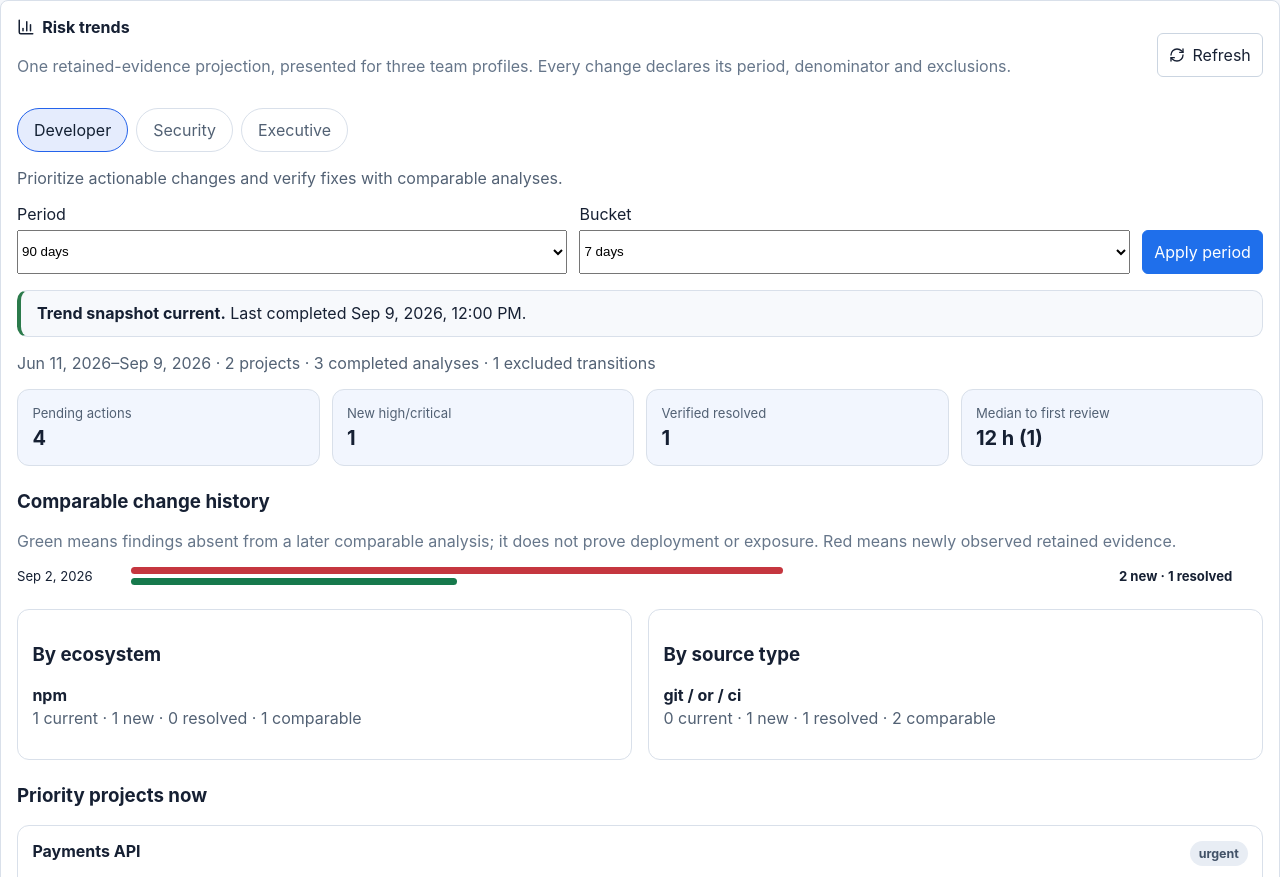
Test: ProjectRiskTrendsPanel › uses closed body-only period controls and preserves an actionable error state
Expected: the text "Payments API" is shown, 32,841 -> 141,866
Select "30 days" in the dropdown labelled "Period" at (292,252), box 17,230 -> 568,274
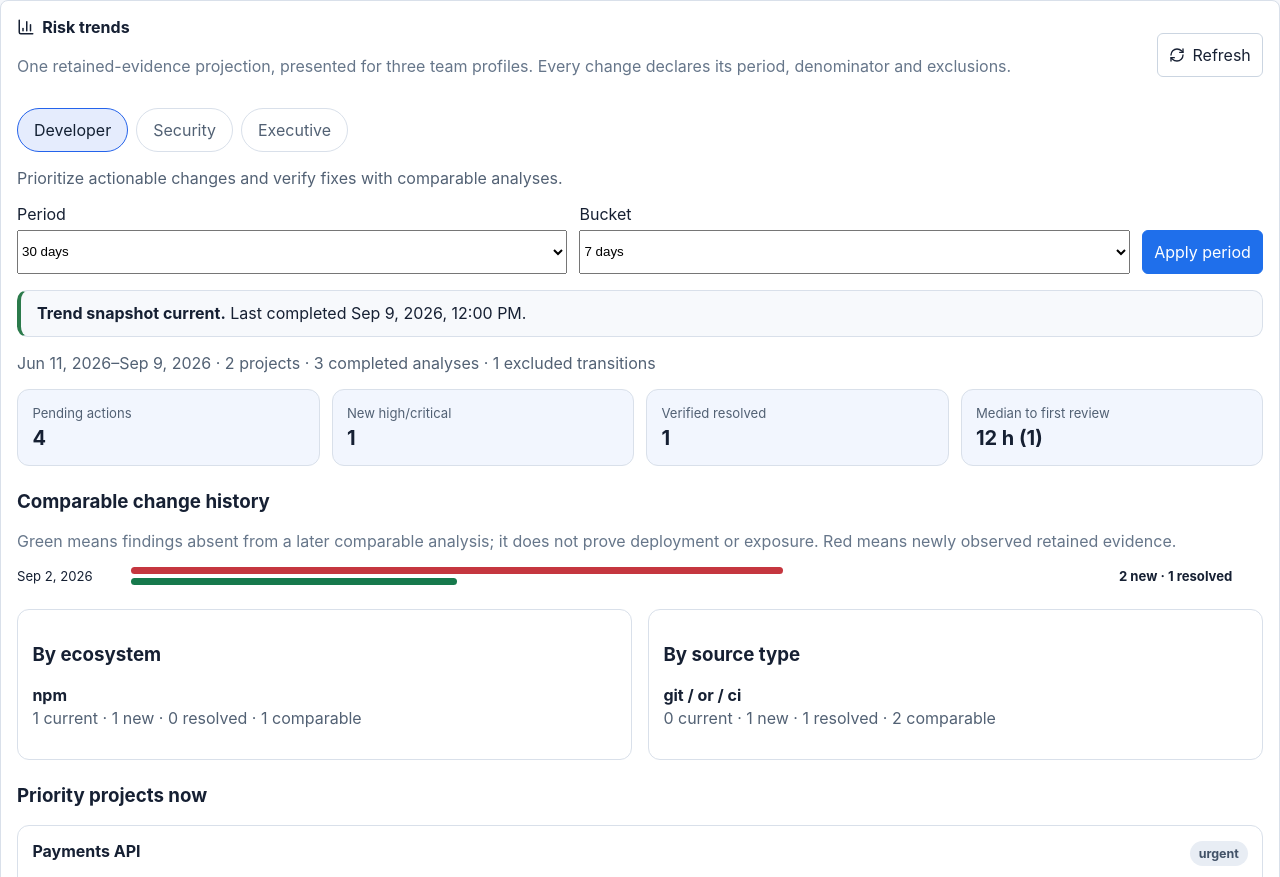
Select "30 days" in the dropdown labelled "Bucket" at (855,252), box 580,230 -> 1130,274
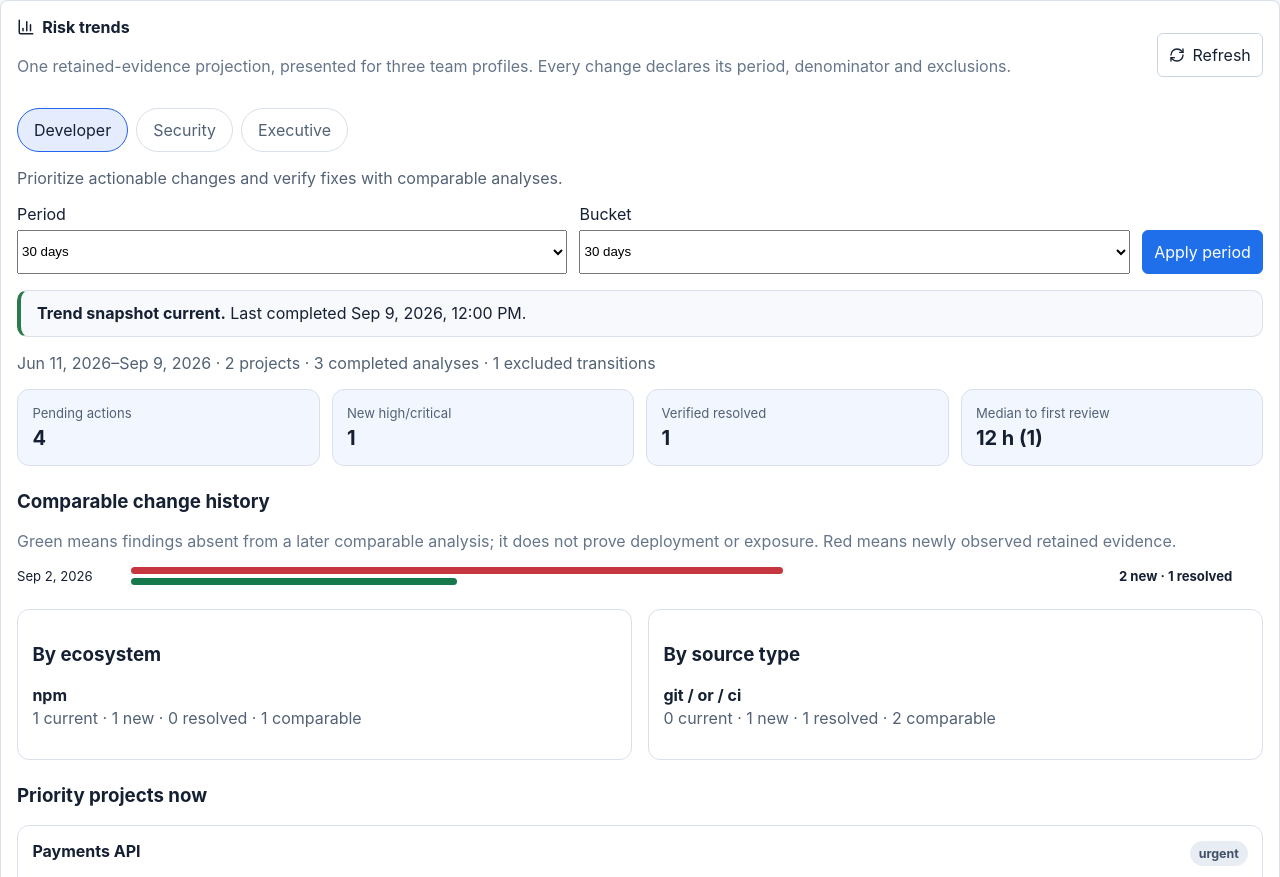
Click the button "Apply period" at (1202,252), box 1142,230 -> 1263,274
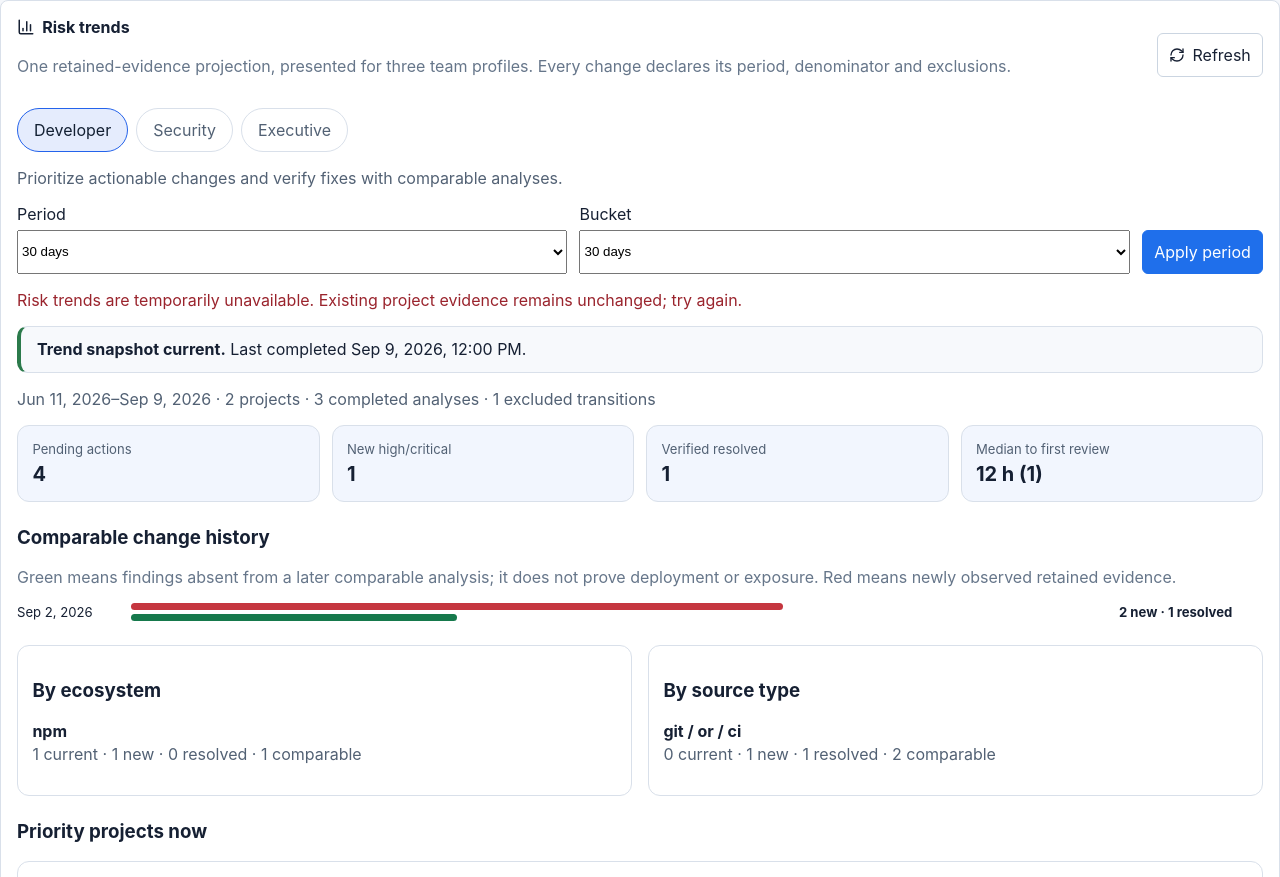
Expected: the 1st message shows "temporarily unavailable", 17,290 -> 742,310
